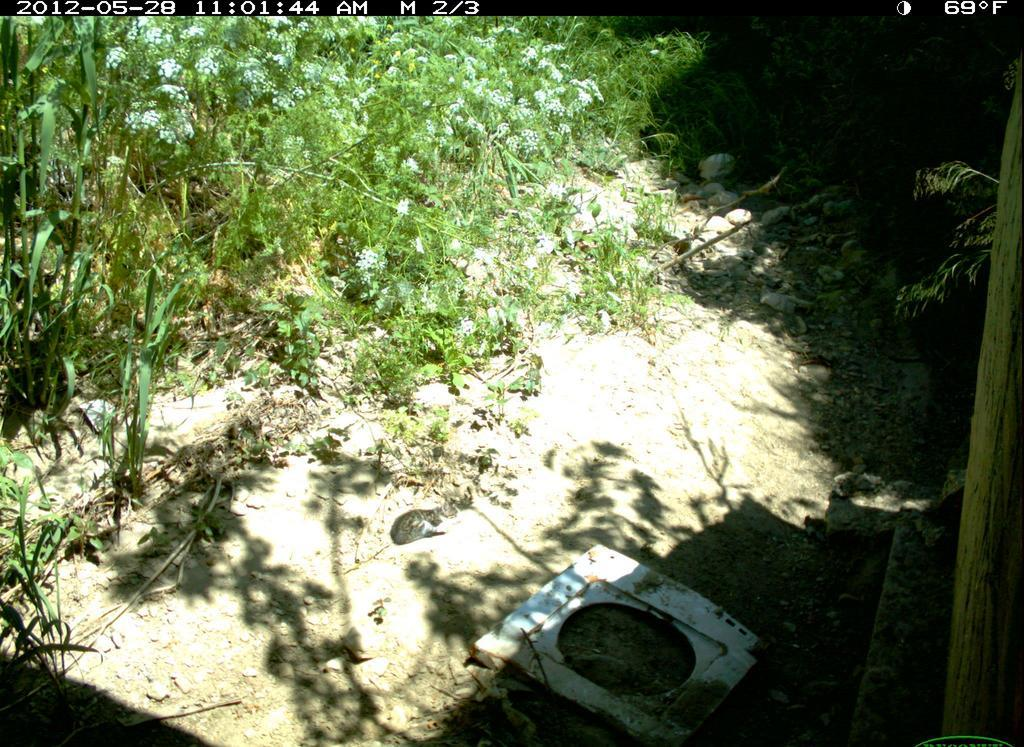cat: (388, 507, 450, 548)
